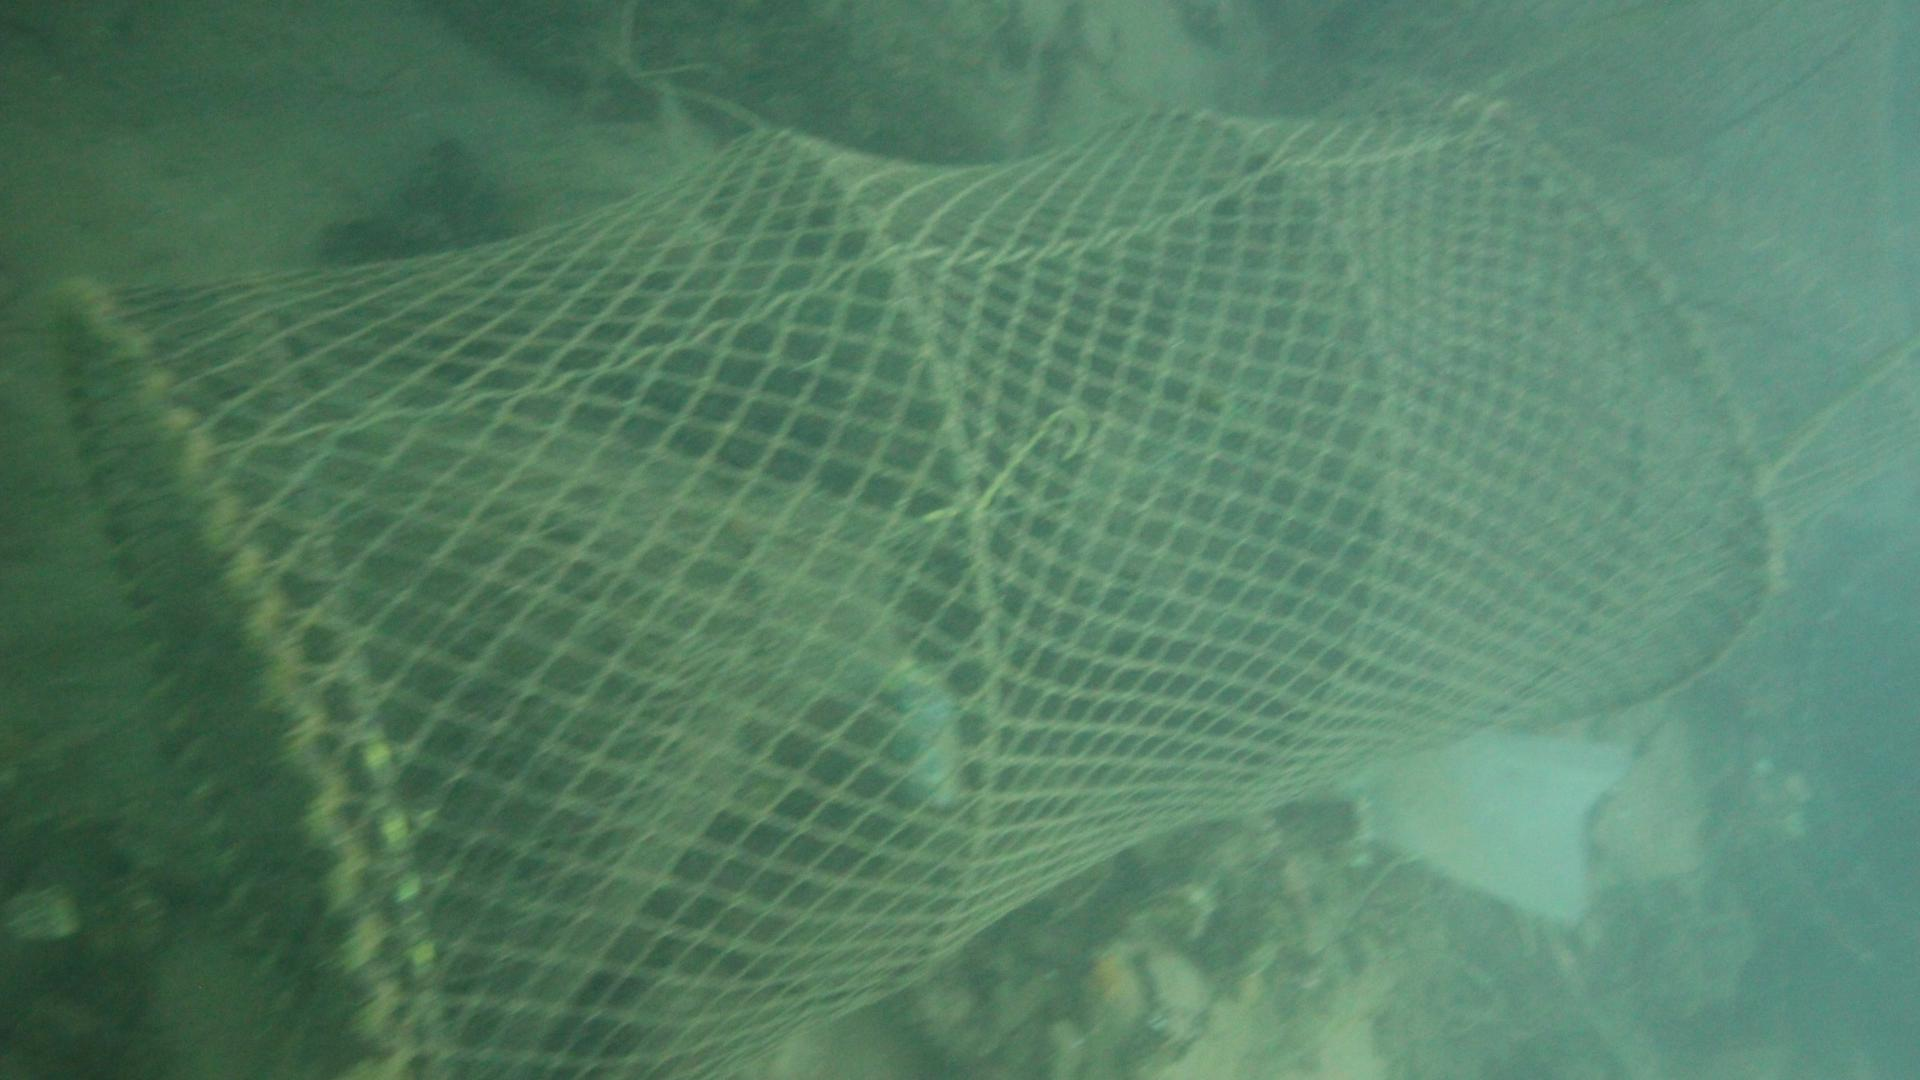spring fish trap: (47, 90, 1784, 1080)
